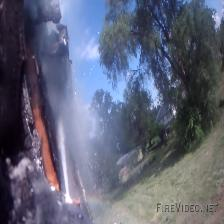smoke: (4, 7, 98, 224)
